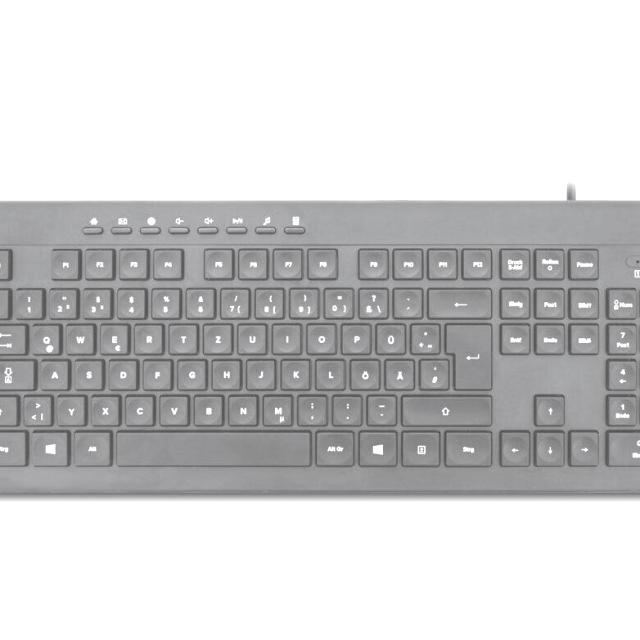0: (321, 285, 353, 317)
1: (12, 285, 42, 317)
2: (46, 285, 76, 317)
3: (80, 284, 111, 316)
4: (115, 285, 145, 316)
5: (149, 285, 179, 317)
6: (184, 284, 214, 316)
7: (218, 284, 248, 316)
8: (252, 285, 283, 317)
9: (287, 284, 318, 316)
a: (37, 356, 67, 388)
accent: (391, 284, 421, 315)
ae: (382, 354, 413, 388)
alt-left: (70, 426, 110, 464)
altgr-right: (312, 426, 353, 464)
b: (191, 391, 222, 423)
c: (122, 391, 152, 423)
caret: (1, 285, 7, 317)
comma: (295, 391, 325, 423)
d: (106, 356, 136, 388)
del: (424, 285, 490, 317)
e: (97, 321, 127, 353)
enter: (442, 318, 490, 388)
f: (140, 355, 170, 387)
g: (175, 356, 205, 388)
h: (209, 356, 239, 388)
hash: (417, 355, 447, 387)
i: (270, 319, 300, 351)
j: (243, 355, 273, 387)
k: (278, 355, 309, 387)
keyboard: (0, 203, 640, 499)
l: (313, 355, 343, 387)
less: (20, 391, 51, 423)
m: (260, 390, 292, 424)
minus: (364, 392, 395, 423)
n: (225, 391, 256, 423)
o: (304, 320, 334, 352)
oe: (347, 356, 378, 388)
p: (339, 320, 369, 352)
plus: (407, 320, 438, 352)
point: (330, 392, 360, 423)
q: (28, 321, 59, 353)
r: (131, 320, 161, 352)
s: (71, 356, 101, 388)
shift-left: (0, 393, 16, 424)
shift-lock: (1, 357, 33, 389)
shift-right: (399, 392, 490, 424)
space: (113, 427, 309, 465)
ss: (355, 284, 387, 316)
strg-left: (0, 426, 25, 463)
strg-right: (441, 427, 491, 465)
t: (166, 320, 196, 352)
tab: (1, 321, 25, 353)
u: (235, 320, 265, 352)
ue: (373, 320, 404, 352)
v: (157, 391, 187, 423)
w: (63, 320, 93, 352)
x: (88, 391, 118, 423)
y: (54, 391, 84, 423)
z: (200, 320, 230, 352)
